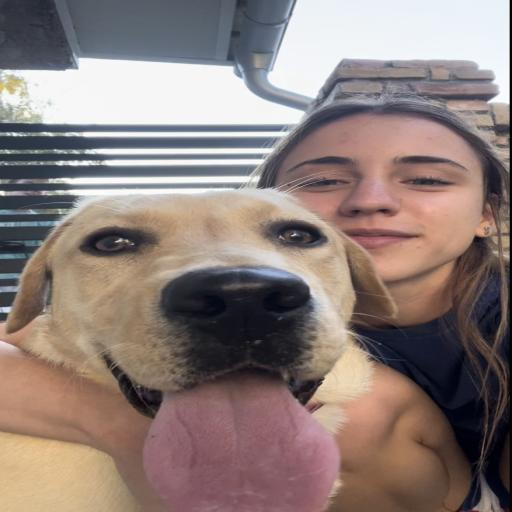masa: (284, 90, 506, 279)
